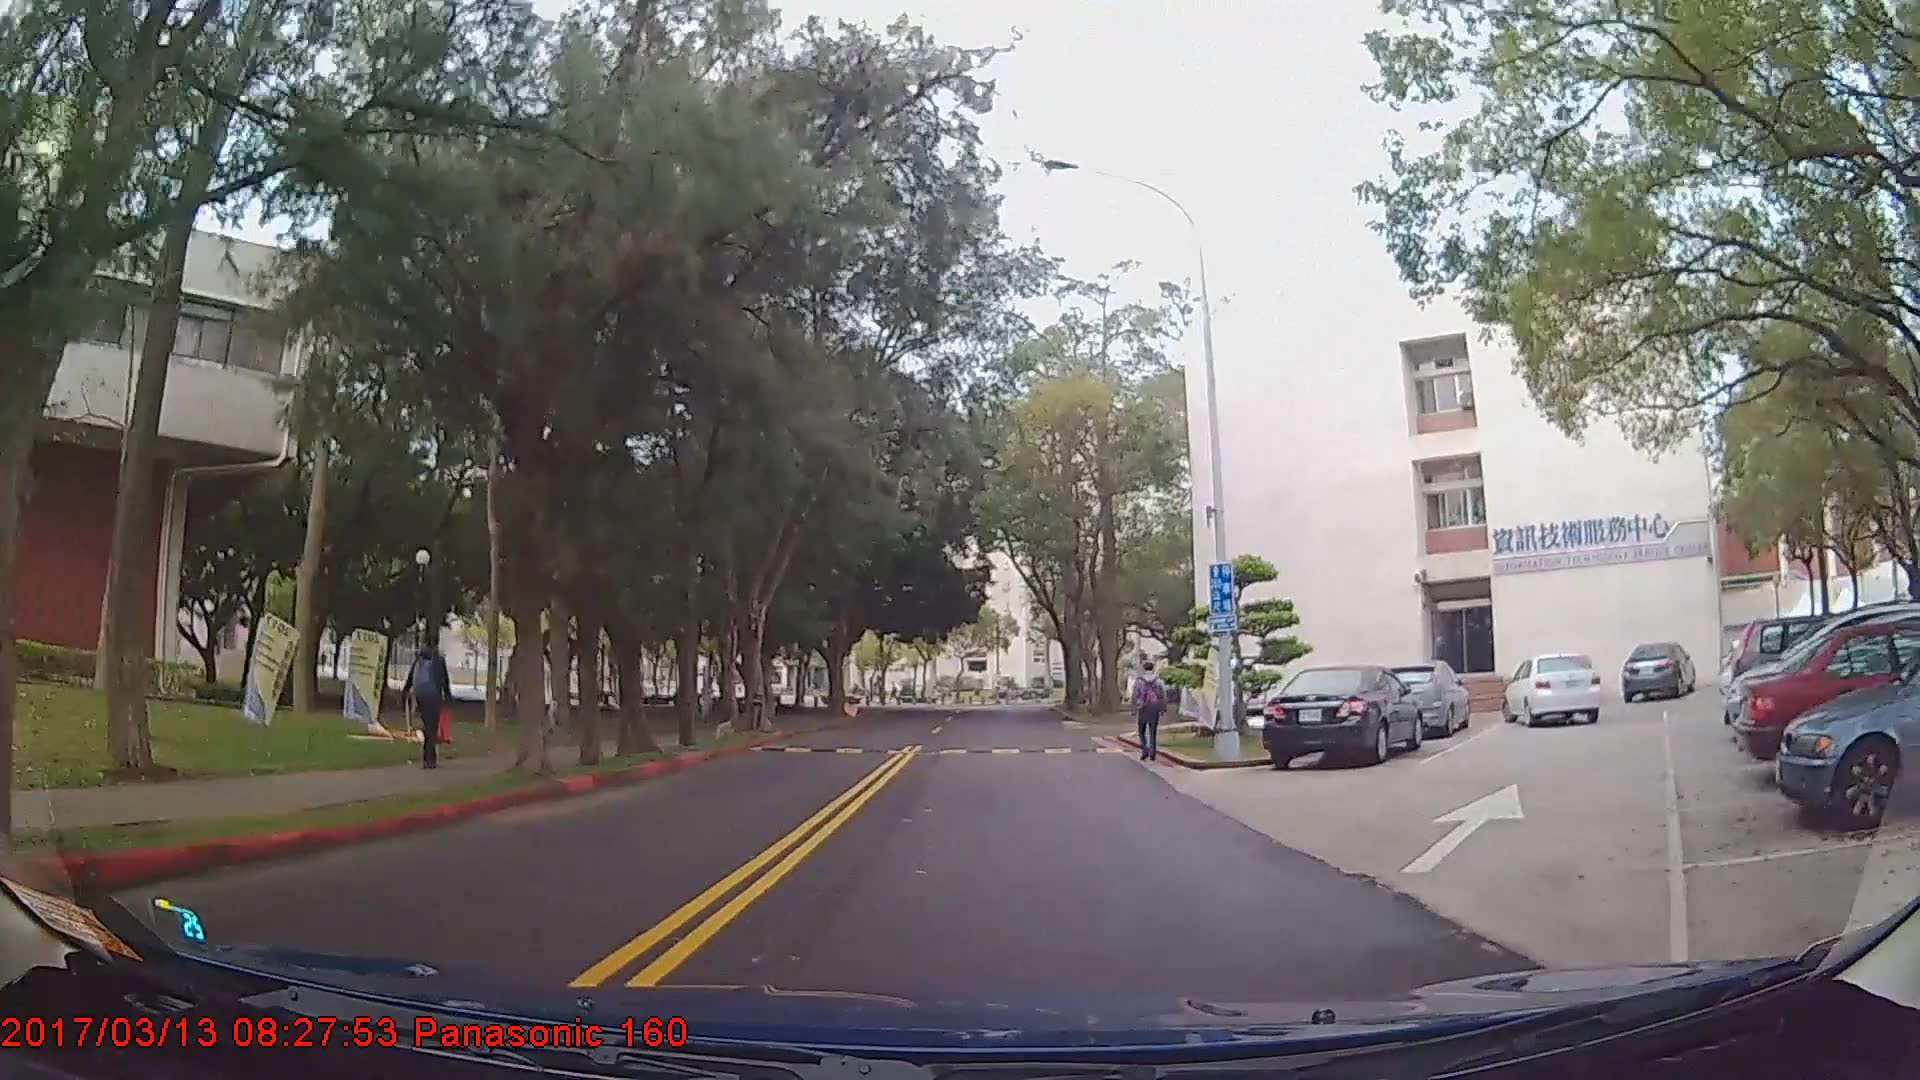pedestrian: (404, 642, 450, 778), (1134, 662, 1171, 767)
vehicle: (1734, 618, 1920, 782), (1770, 666, 1920, 832), (1259, 663, 1421, 766), (1375, 657, 1473, 737), (1504, 652, 1601, 728), (1620, 639, 1695, 701)
